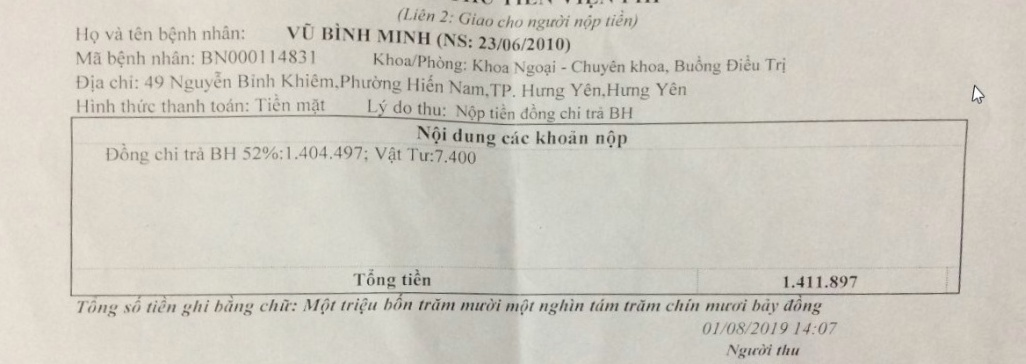add: (340, 66, 406, 98), (279, 67, 340, 94), (173, 71, 239, 93), (403, 71, 447, 96), (451, 74, 491, 101), (607, 79, 652, 103), (525, 80, 567, 102), (566, 79, 607, 101), (238, 71, 277, 94), (491, 76, 521, 100), (657, 79, 693, 99), (142, 71, 171, 92)
birth: (479, 29, 564, 53)
name: (377, 26, 434, 51), (321, 21, 372, 48), (285, 20, 319, 45)
